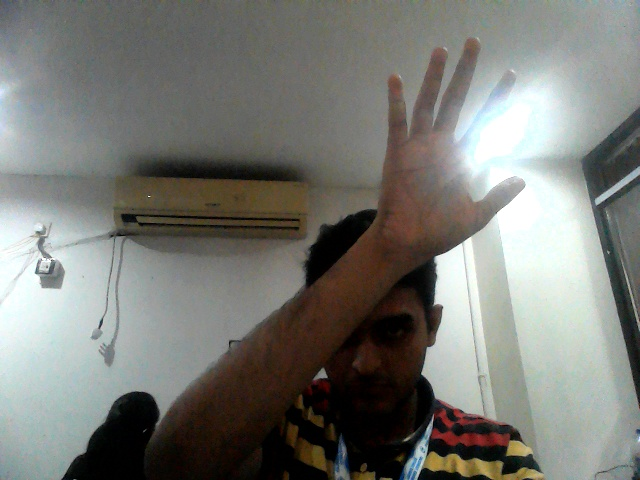palm: (377, 34, 529, 264)
